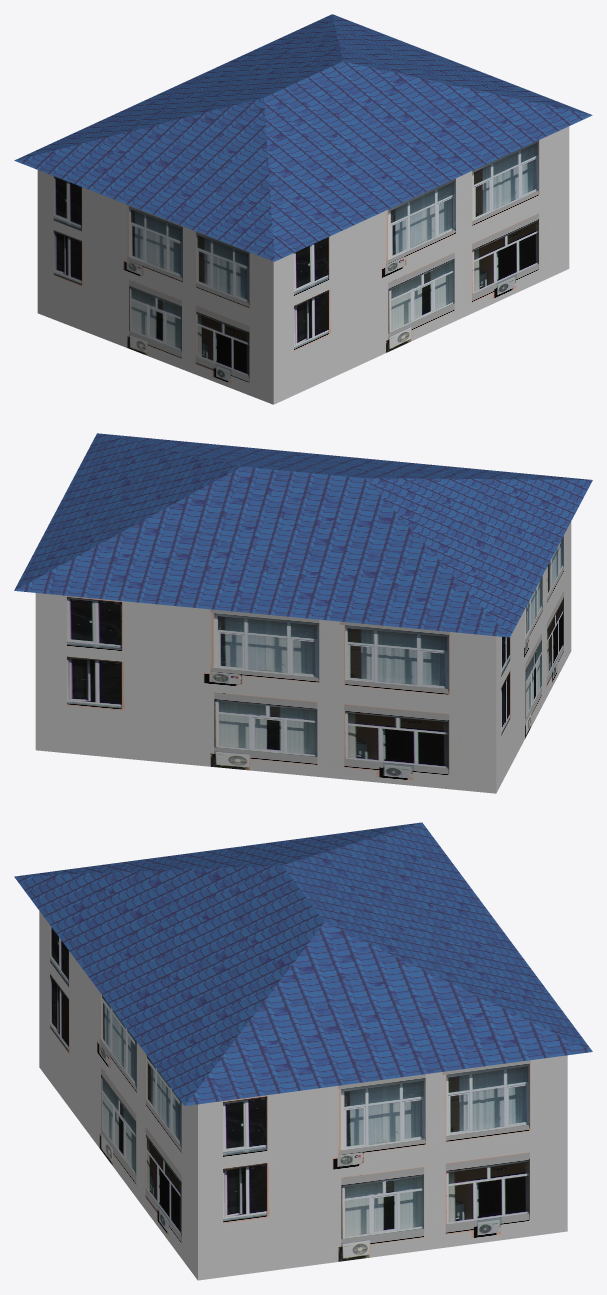
3 renders of one model, top to bottom at view 1: azimuth 30°, elevation 25°; view 2: azimuth 150°, elevation 25°; view 3: azimuth 270°, elevation 25°, orthographic. The views are drawn at different scales.
Parts seen in each view (by area): view 1: CityEngineMaterial_9_m, CityEngineMaterial_10_m; view 2: CityEngineMaterial_9_m, CityEngineMaterial_10_m; view 3: CityEngineMaterial_10_m, CityEngineMaterial_9_m.
Part boxes in pixels (x1,y1,x2,y2): CityEngineMaterial_9_m: (37,126,569,404); CityEngineMaterial_10_m: (14,14,592,261); CityEngineMaterial_9_m: (35,521,571,793); CityEngineMaterial_10_m: (14,433,592,637); CityEngineMaterial_10_m: (14,822,592,1105); CityEngineMaterial_9_m: (39,911,567,1280).
Size of the model in its own units: 31.24 by 13.13 by 26.94.
